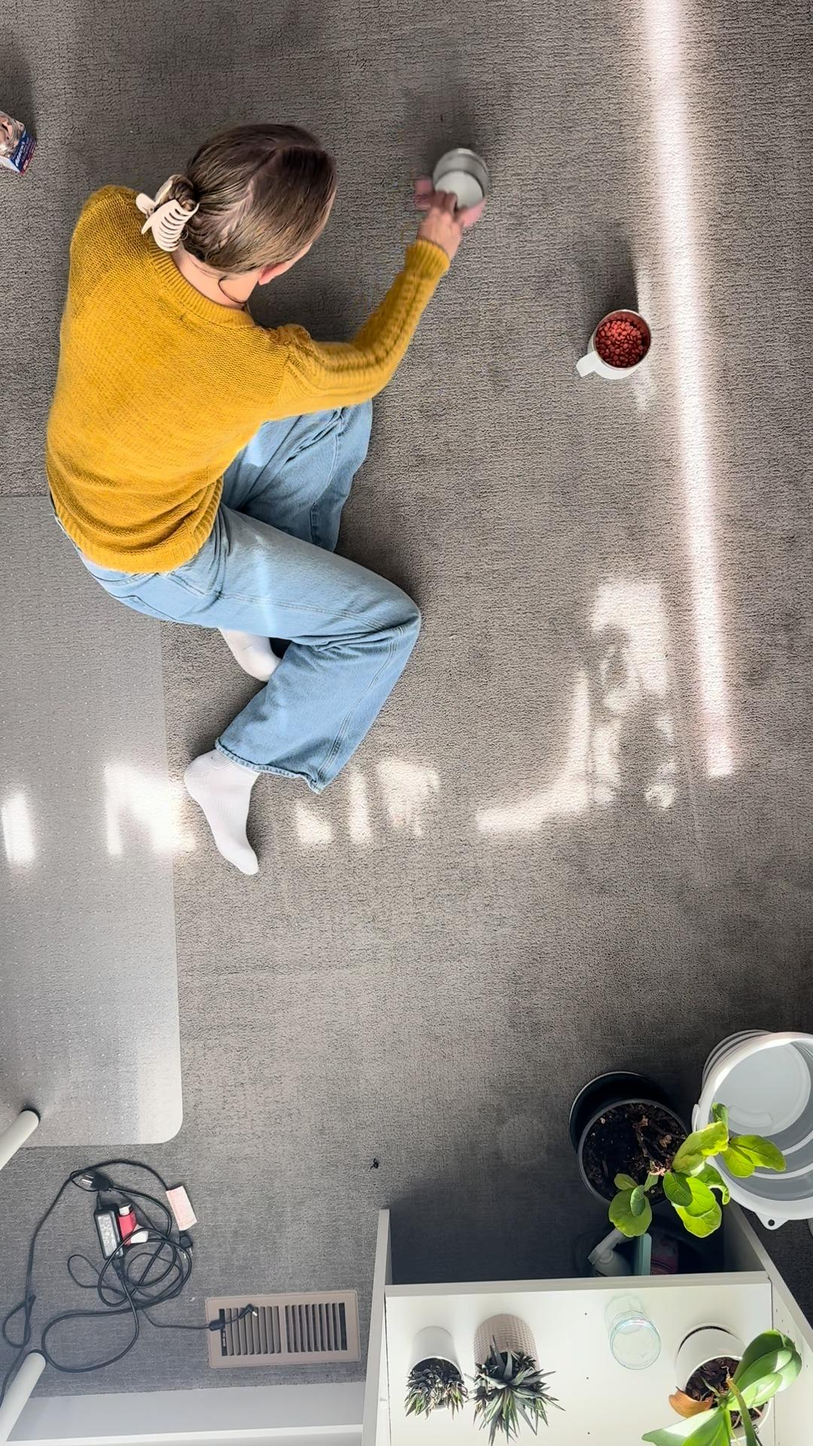IBC: (409, 131, 507, 224), (575, 296, 668, 384)
